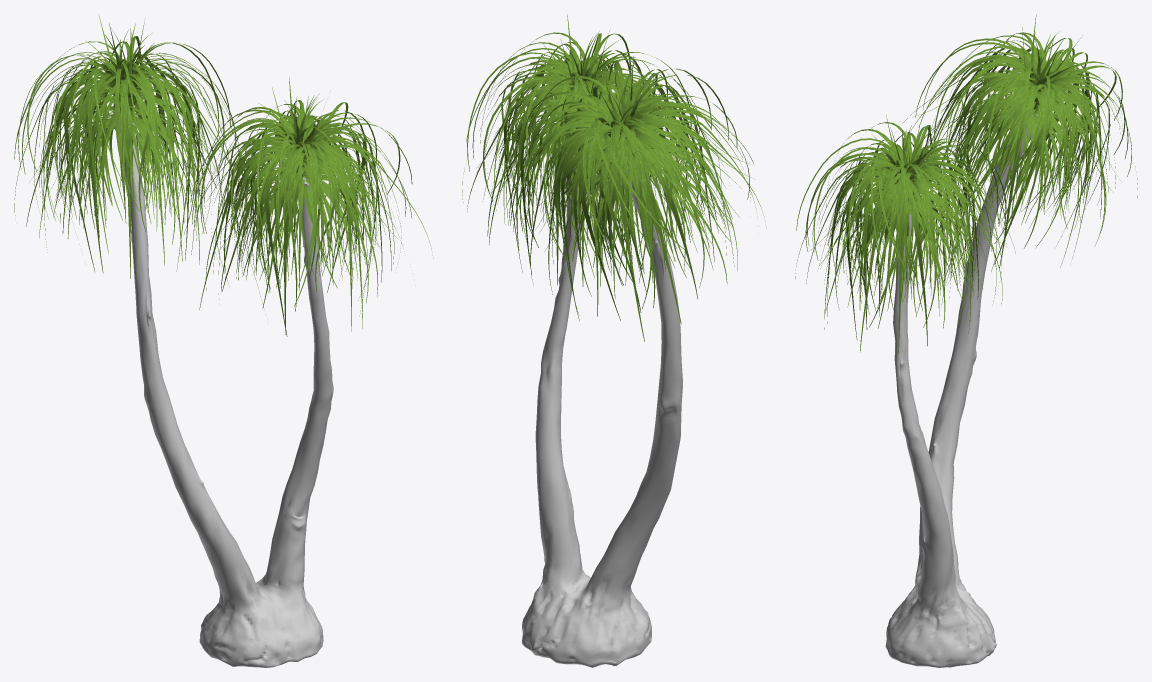
3 renders of one model, left to right at view 1: azimuth 30°, elevation 25°; view 2: azimuth 150°, elevation 25°; view 3: azimuth 270°, elevation 25°, orthographic. The views are drawn at different scales.
Parts seen in each view (by area): view 1: Trunk, Leaves001, Leaves002; view 2: Leaves001, Trunk, Leaves002; view 3: Leaves001, Leaves002, Trunk.
Boxes of the visible parts, left/top/right/bottom form: Trunk: left=114, top=120, right=333, bottom=667; Leaves001: left=14, top=14, right=249, bottom=278; Leaves002: left=190, top=77, right=433, bottom=336; Leaves001: left=519, top=56, right=766, bottom=341; Trunk: left=522, top=156, right=682, bottom=667; Leaves002: left=462, top=14, right=699, bottom=286; Leaves001: left=902, top=14, right=1137, bottom=267; Leaves002: left=795, top=115, right=1015, bottom=353; Trunk: left=885, top=114, right=1038, bottom=667.
Bounding box in the file's own units: 133 × 250 × 133.
